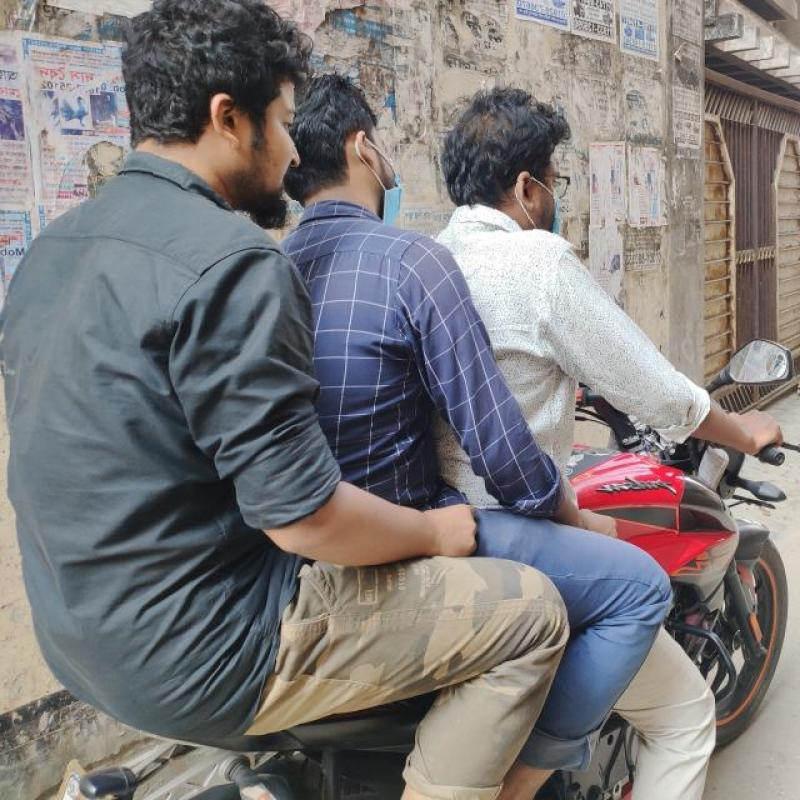nohelmet: (98, 2, 324, 200), (428, 71, 578, 254)
